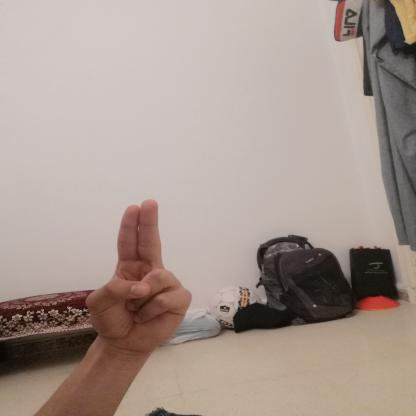TA: (64, 185, 204, 368)
